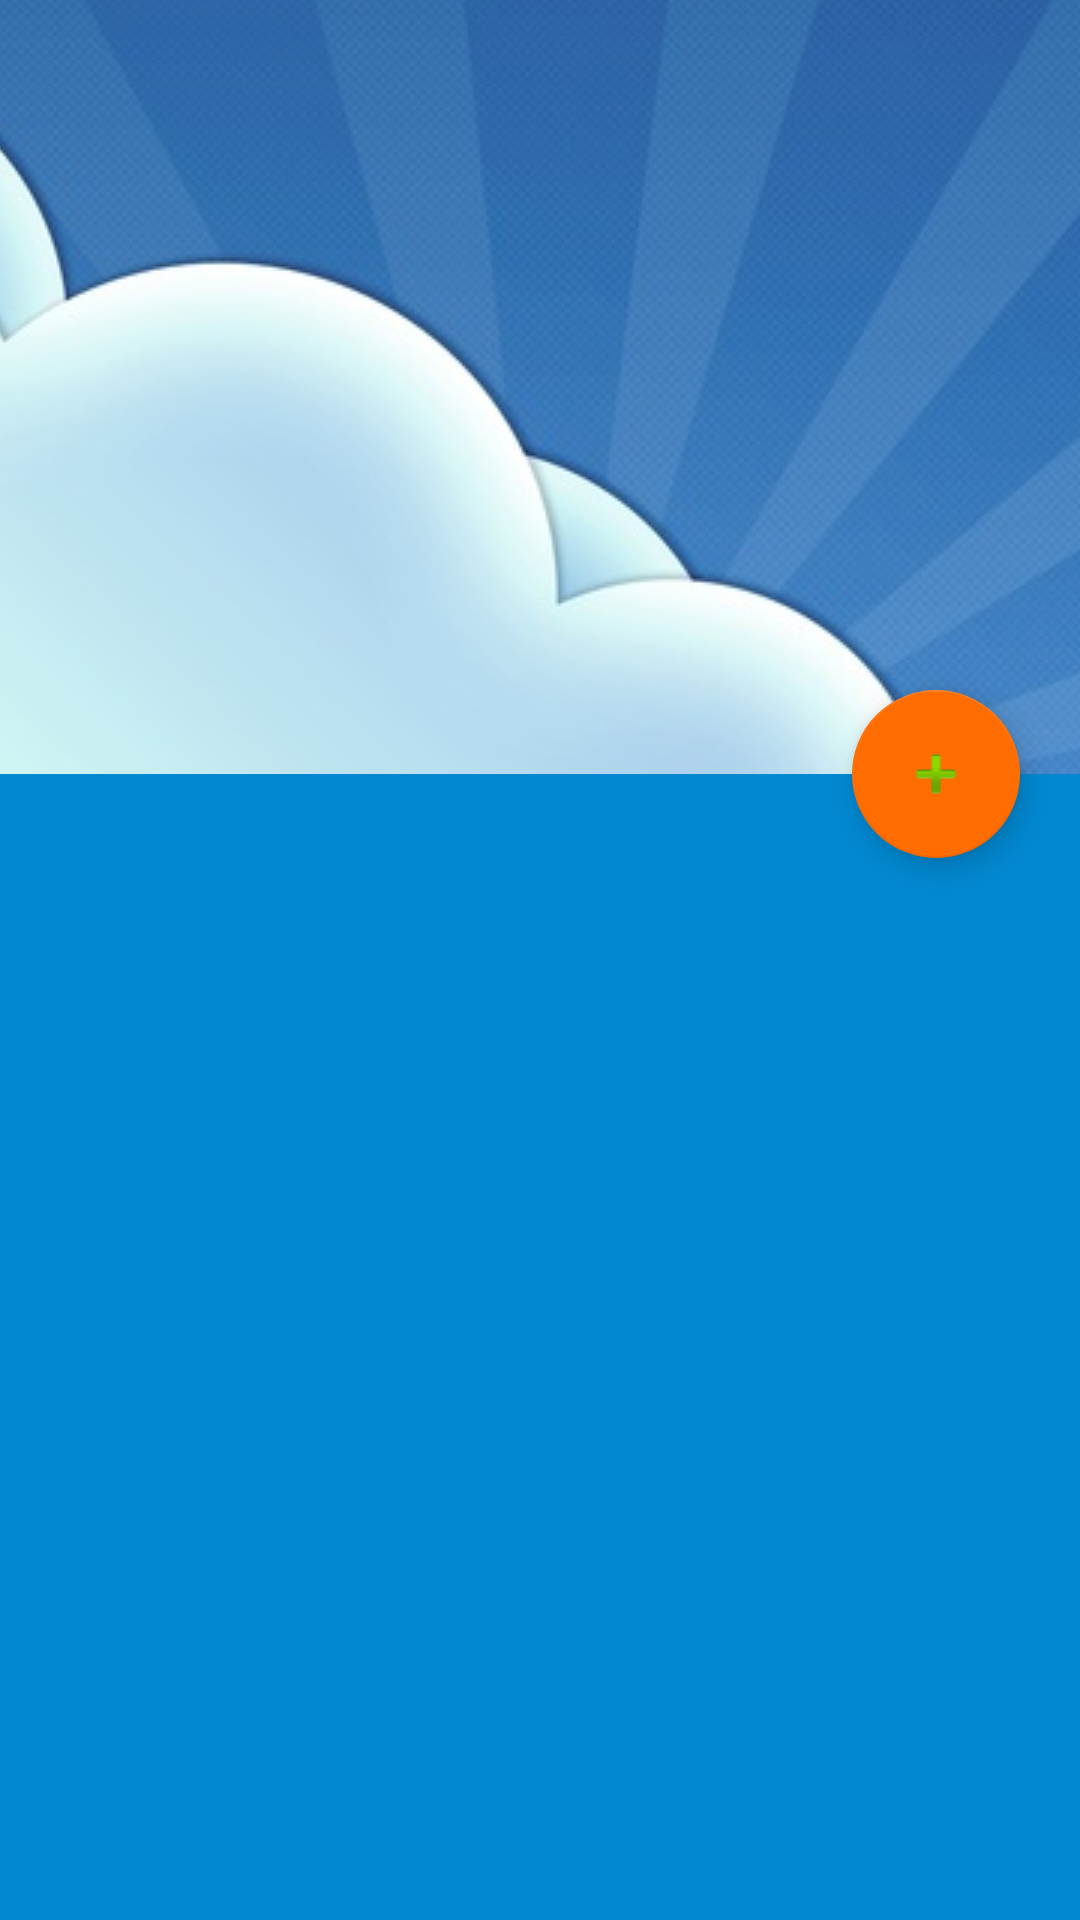

Icons on this 1080w x 1920h Android screen, each with the point to tap as [x,y]:
add: [936,774]
